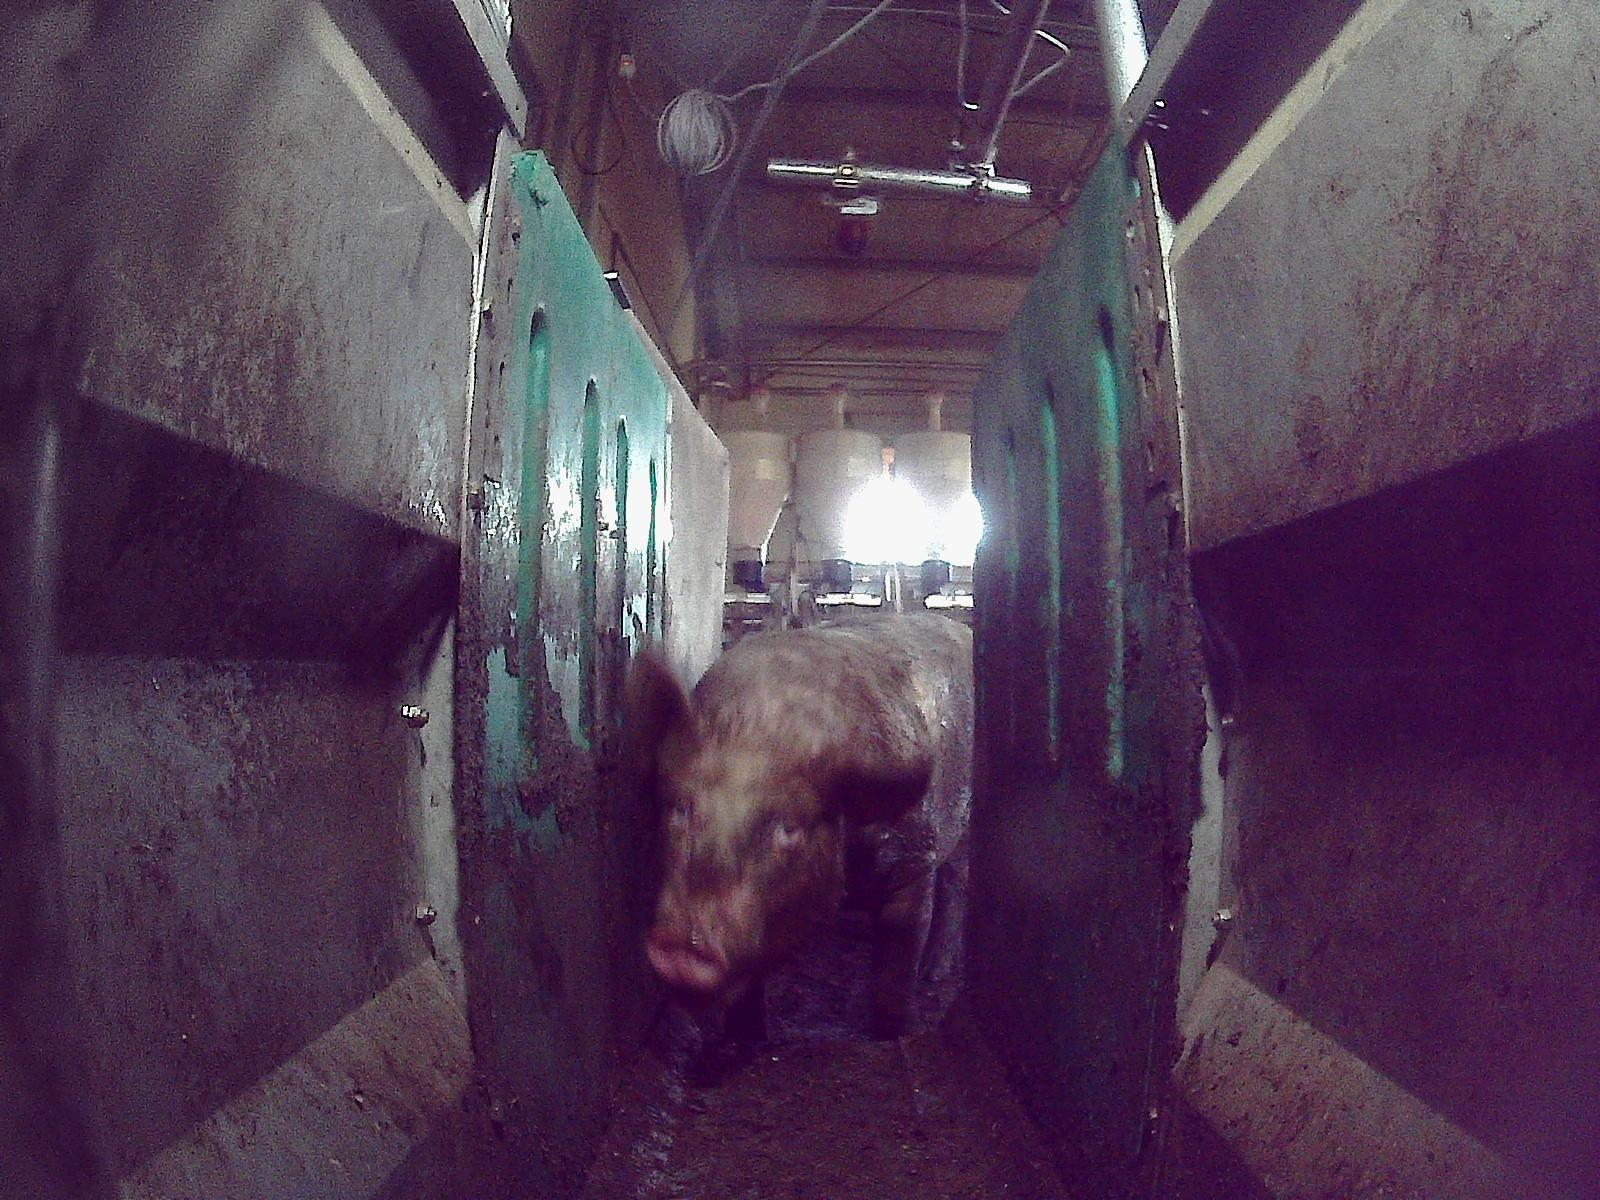Face: (642, 727, 849, 986)
